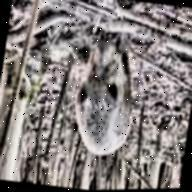boar: (48, 18, 157, 168)
